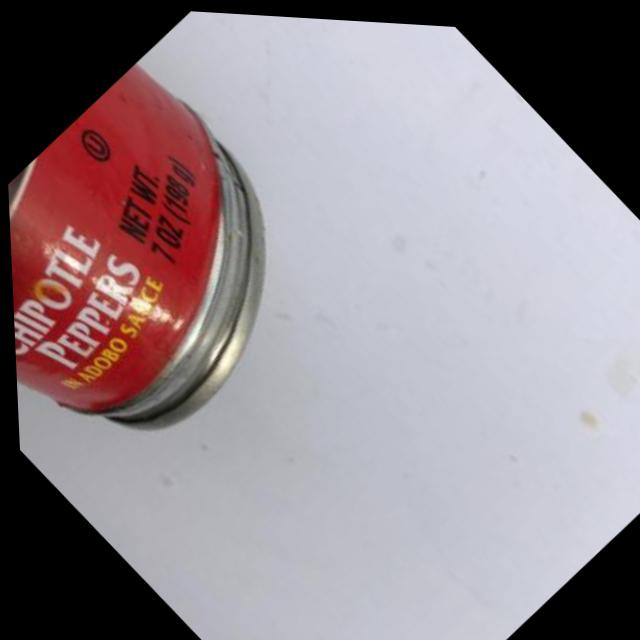metal: (2, 42, 369, 539)
